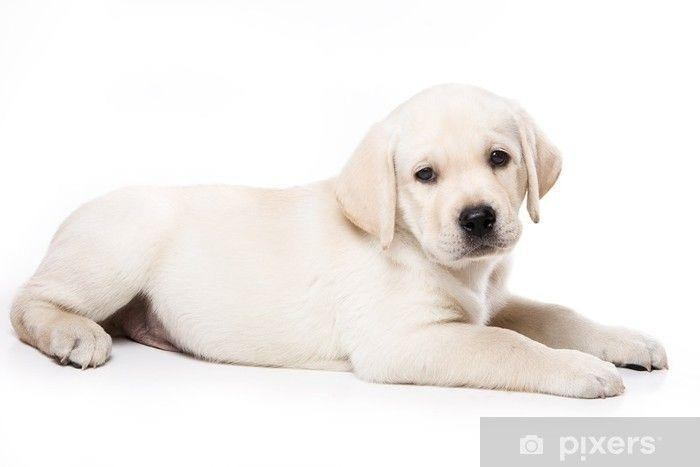puppy-dog: (9, 80, 669, 398)
